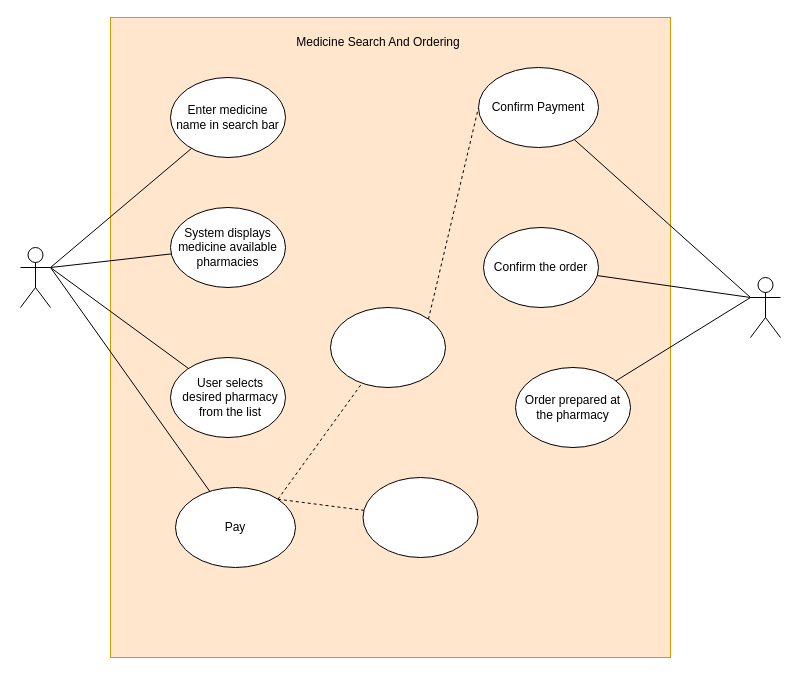
Some shapes in this 810 by 675 pixel diagram are drawn without their labels. The centre of each missing label's shape, as x and y in pixels:
Patient: point (35, 277)
Pay by visiting the pharmacy: point (388, 347)
Pay online: point (420, 517)
Pharmacy: point (765, 307)
